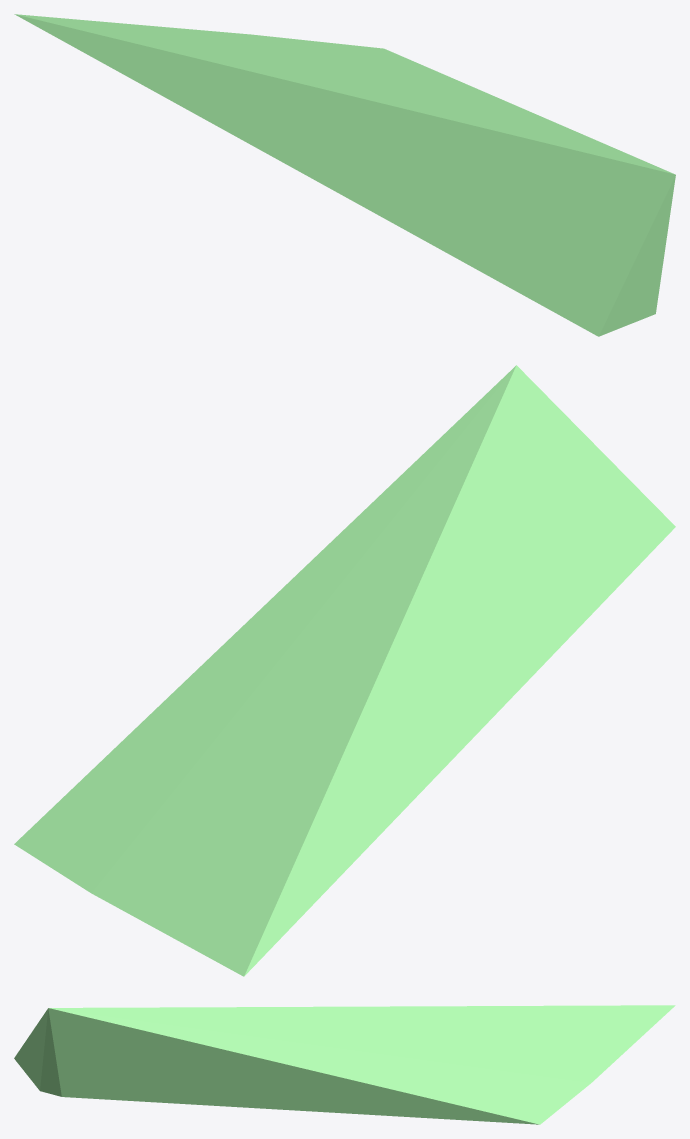
The model's file is UMIRobot_UMIRobot_link_3_convex_coll_8.dae.
The picture shows the model from 3 angles, top to bottom: view 1: azimuth 30°, elevation 25°; view 2: azimuth 150°, elevation 25°; view 3: azimuth 270°, elevation 25°; orthographic projection. The views are drawn at different scales.
Parts seen in each view (by area): view 1: node; view 2: node; view 3: node.
Boxes of the visible parts, x1,y1,x2,y2 form: node: (14,14,675,336); node: (14,365,675,976); node: (14,1005,675,1124).
Size of the model in its own units: 0.0189 by 0.00902 by 0.0548.
